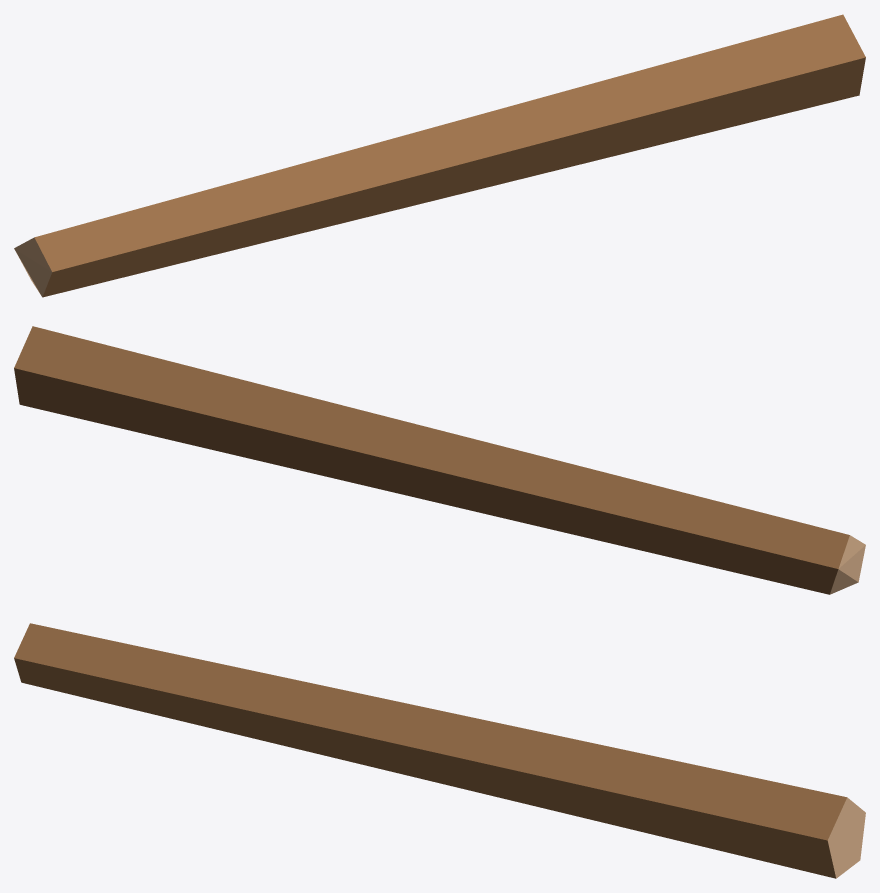
The model's file is Pine_Log_01_LOD.fbx.
3 renders of one model, top to bottom at view 1: azimuth 30°, elevation 25°; view 2: azimuth 150°, elevation 25°; view 3: azimuth 330°, elevation 25°, orthographic.
Visible parts, largest first — view 1: Pine_Log_01_LOD0; view 2: Pine_Log_01_LOD0; view 3: Pine_Log_01_LOD0.
Boxes of the visible parts, x1,y1,x2,y2 form: Pine_Log_01_LOD0: [14, 14, 865, 297]; Pine_Log_01_LOD0: [14, 326, 865, 594]; Pine_Log_01_LOD0: [14, 623, 865, 878].
Size of what is drawn, in the model's own units: 711 by 59.08 by 65.36.
